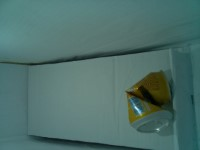kaleng: (124, 71, 173, 135)
